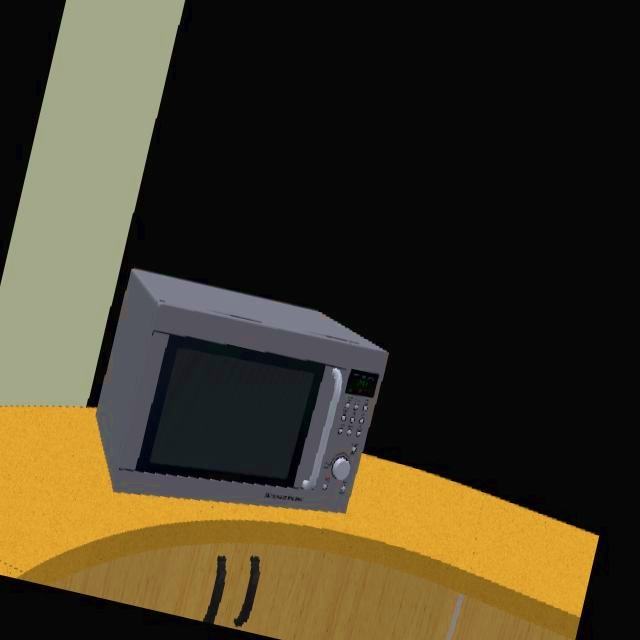cabinet: (11, 459, 597, 640)
countertop: (0, 405, 598, 640)
microwave: (92, 269, 389, 514)
